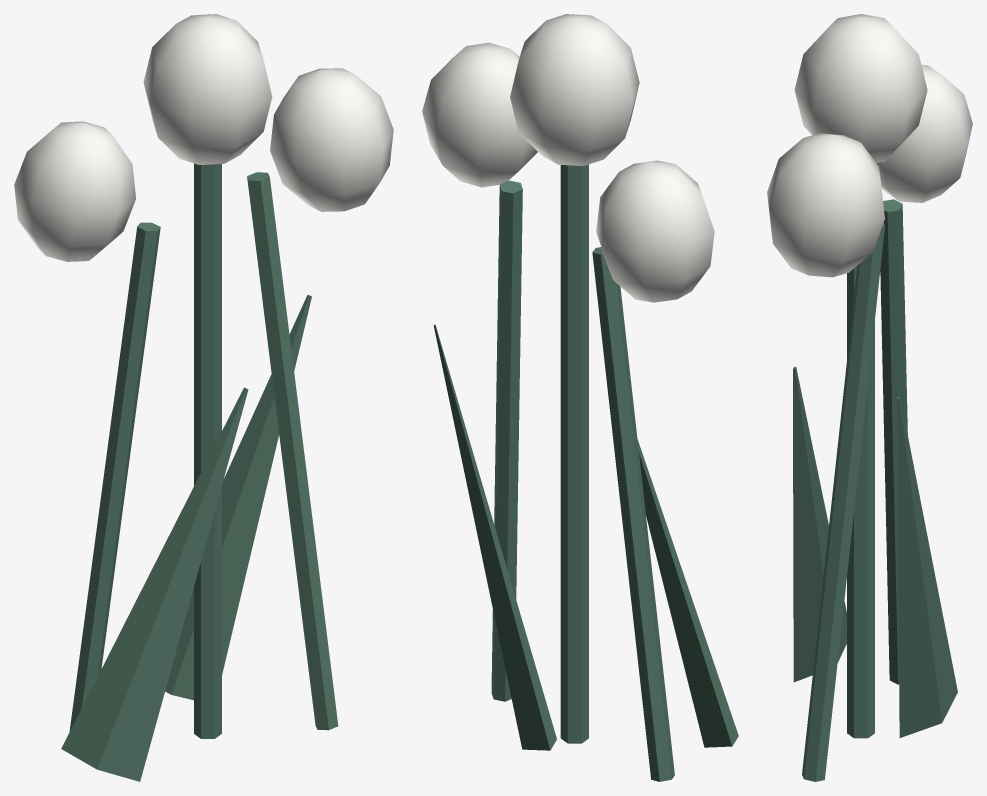
Rendered from tulip-cluster-white.glb.
3 views of the same model, side by side, from view 1: azimuth 30°, elevation 25°; view 2: azimuth 150°, elevation 25°; view 3: azimuth 270°, elevation 25° (orthographic).
Visible parts, largest first — view 1: tulip-cluster-white; view 2: tulip-cluster-white; view 3: tulip-cluster-white.
Part boxes in pixels (x1,y1,x2,y2): tulip-cluster-white: (14, 14, 393, 781); tulip-cluster-white: (422, 14, 738, 781); tulip-cluster-white: (767, 14, 972, 781).
Size of the model in its own units: 0.2072 by 0.45 by 0.1175.
